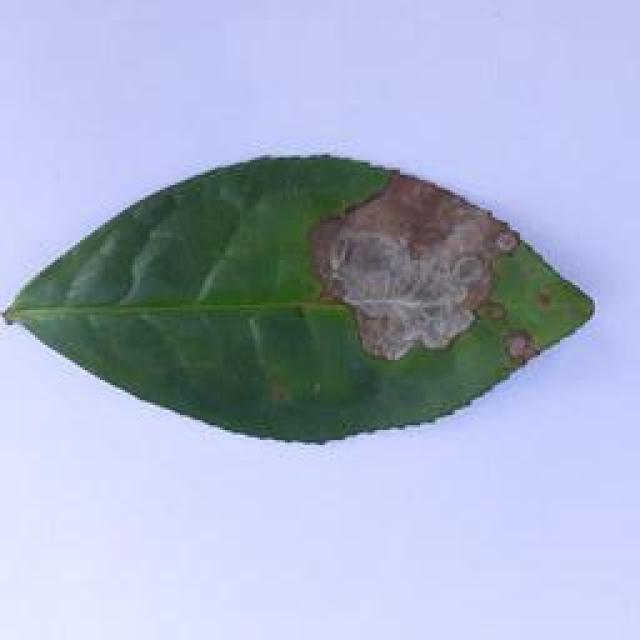Gray Blight: (4, 148, 602, 449)
